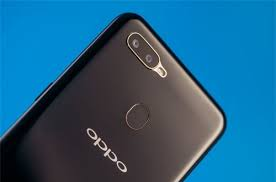oppo: (1, 11, 227, 182)
